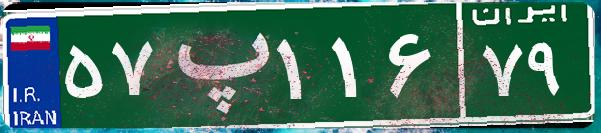1: (273, 28, 330, 110), (330, 28, 385, 110)
5: (57, 26, 110, 107)
6: (385, 28, 445, 110)
7: (475, 38, 525, 113), (110, 28, 158, 105)
9: (525, 38, 570, 115)
پ: (158, 15, 273, 115)
